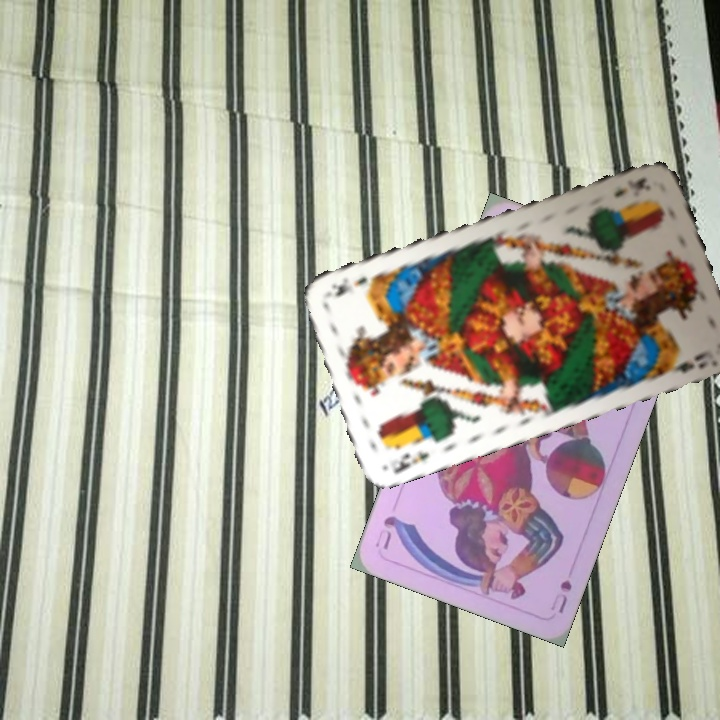EK: (389, 446, 432, 477), (610, 173, 653, 200)
SU: (554, 575, 575, 616)
